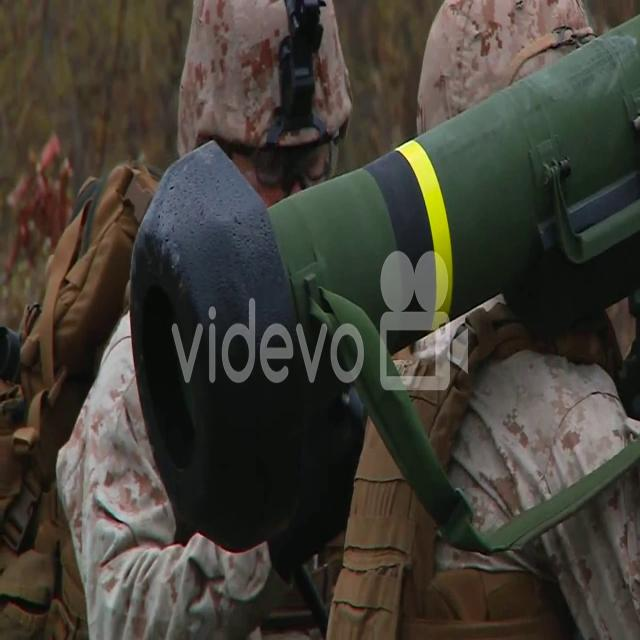bazooka: (132, 1, 640, 590)
